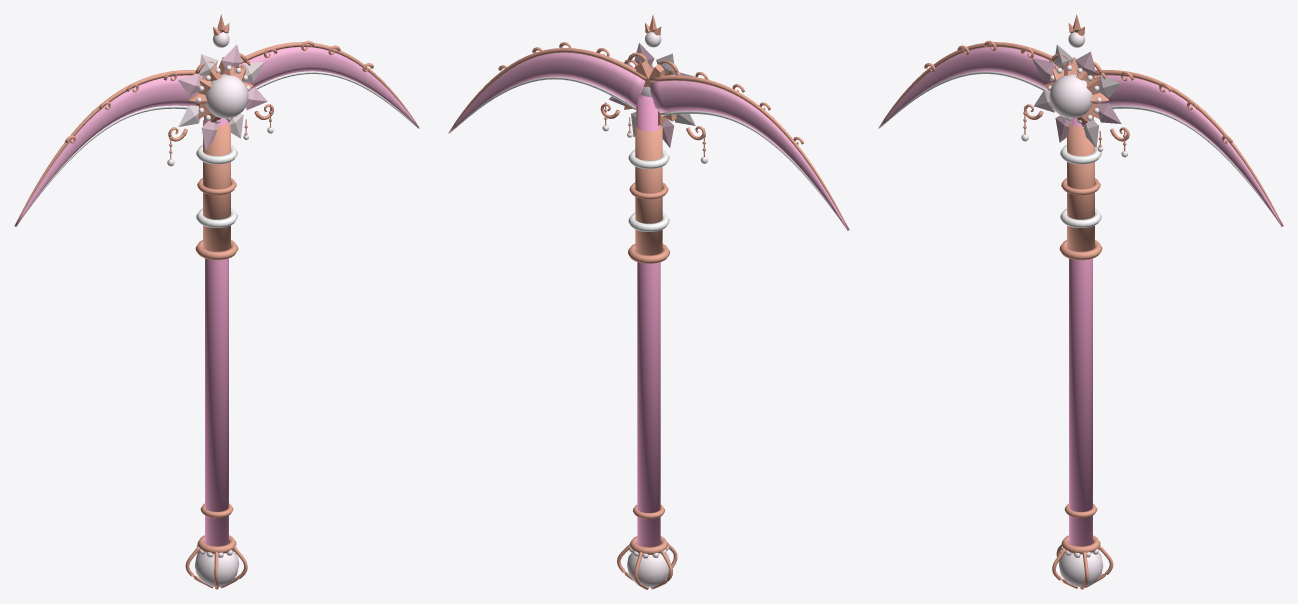
File: PearlTidePickaxe.glb
The picture shows the model from 3 angles, left to right: view 1: azimuth 30°, elevation 25°; view 2: azimuth 150°, elevation 25°; view 3: azimuth 330°, elevation 25°; orthographic projection.
Parts seen in each view (by area): view 1: PearlTidePickaxe_SmoothPlastic, PearlTidePickaxe_Metal; view 2: PearlTidePickaxe_SmoothPlastic, PearlTidePickaxe_Metal; view 3: PearlTidePickaxe_SmoothPlastic, PearlTidePickaxe_Metal.
Part boxes in pixels (x1=…): PearlTidePickaxe_SmoothPlastic: x1=14, y1=32, x2=419, y2=586; PearlTidePickaxe_Metal: x1=15, y1=14, x2=419, y2=589; PearlTidePickaxe_SmoothPlastic: x1=448, y1=32, x2=849, y2=587; PearlTidePickaxe_Metal: x1=448, y1=14, x2=848, y2=589; PearlTidePickaxe_SmoothPlastic: x1=878, y1=32, x2=1283, y2=587; PearlTidePickaxe_Metal: x1=878, y1=14, x2=1282, y2=589.
Size of the model in its own units: 3.33 by 4.54 by 0.522.
2 materials, 2 textured.
